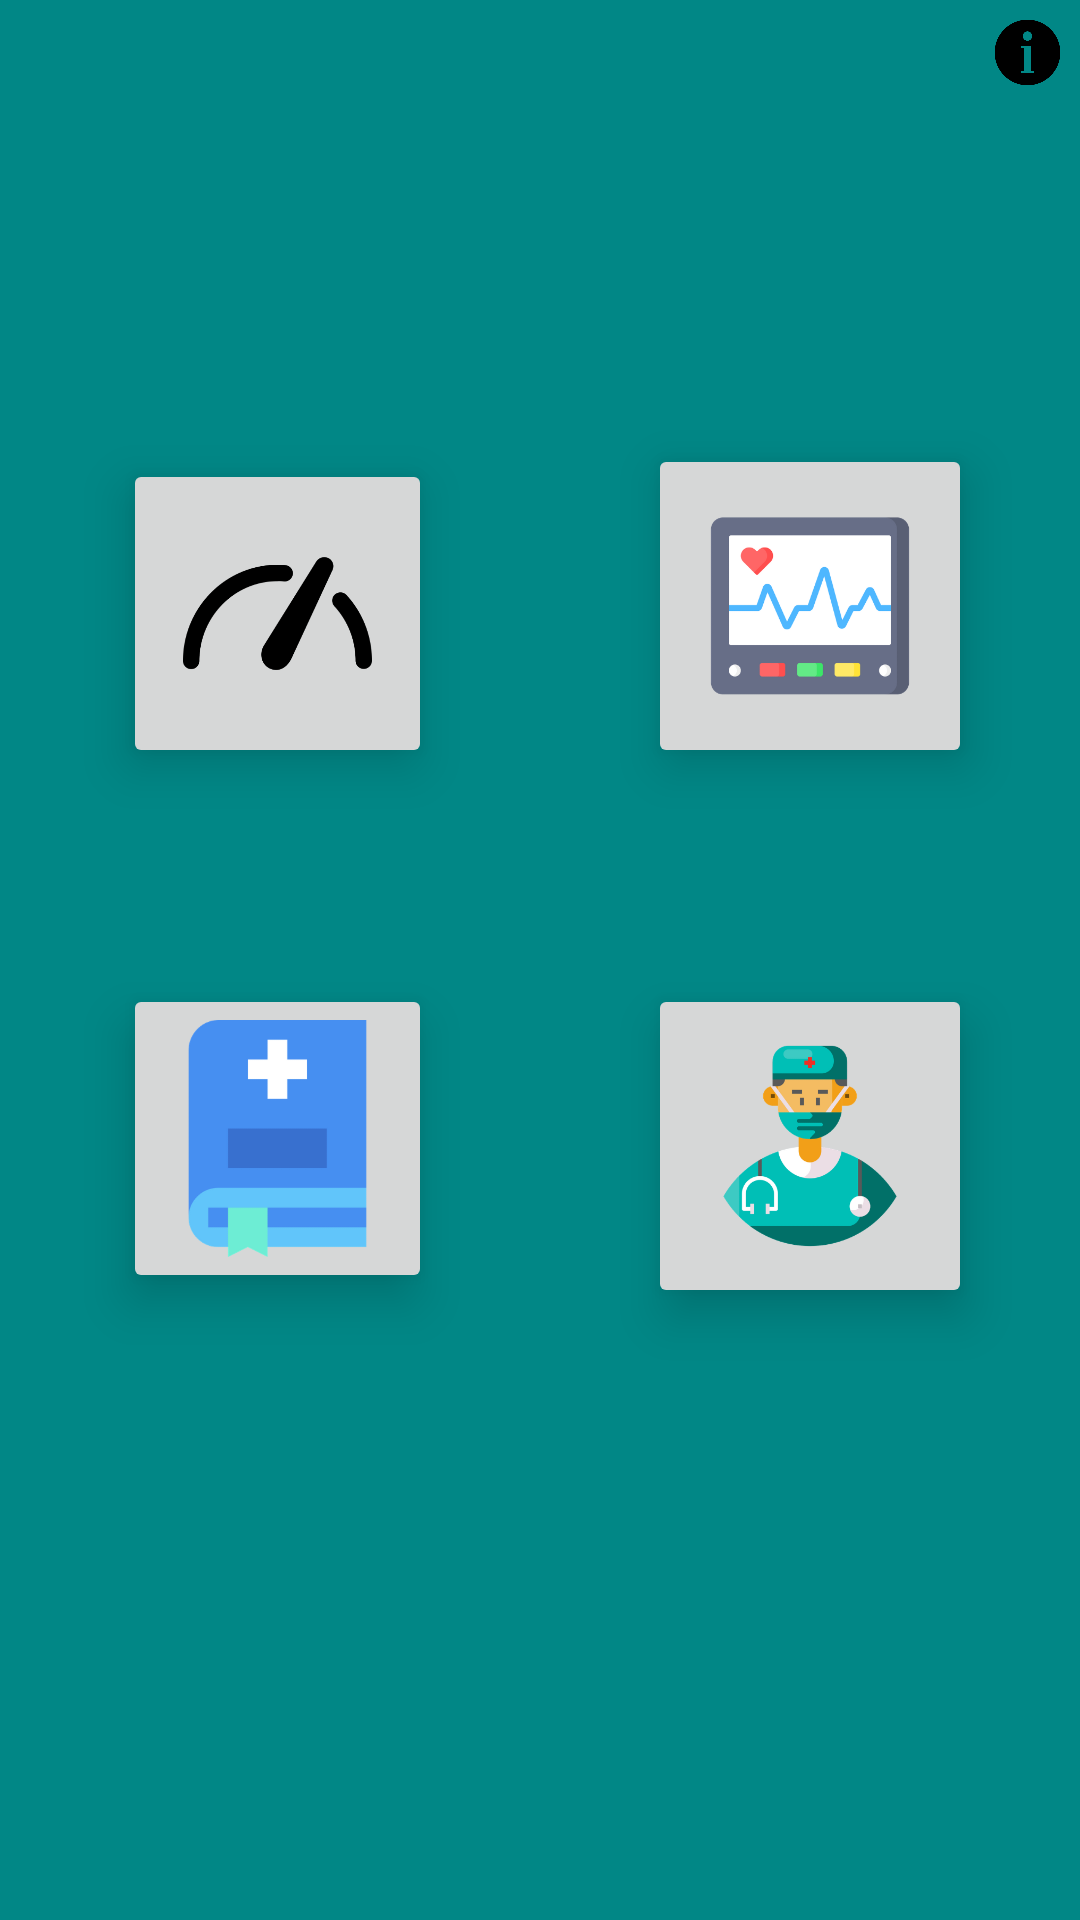

Where to tap for icons on this 1080px x 1920px app screen, as [x,y]:
doctor: [810,1146]
history: [277,1138]
information: [1027,52]
sensing: [810,606]
wscore: [277,613]
